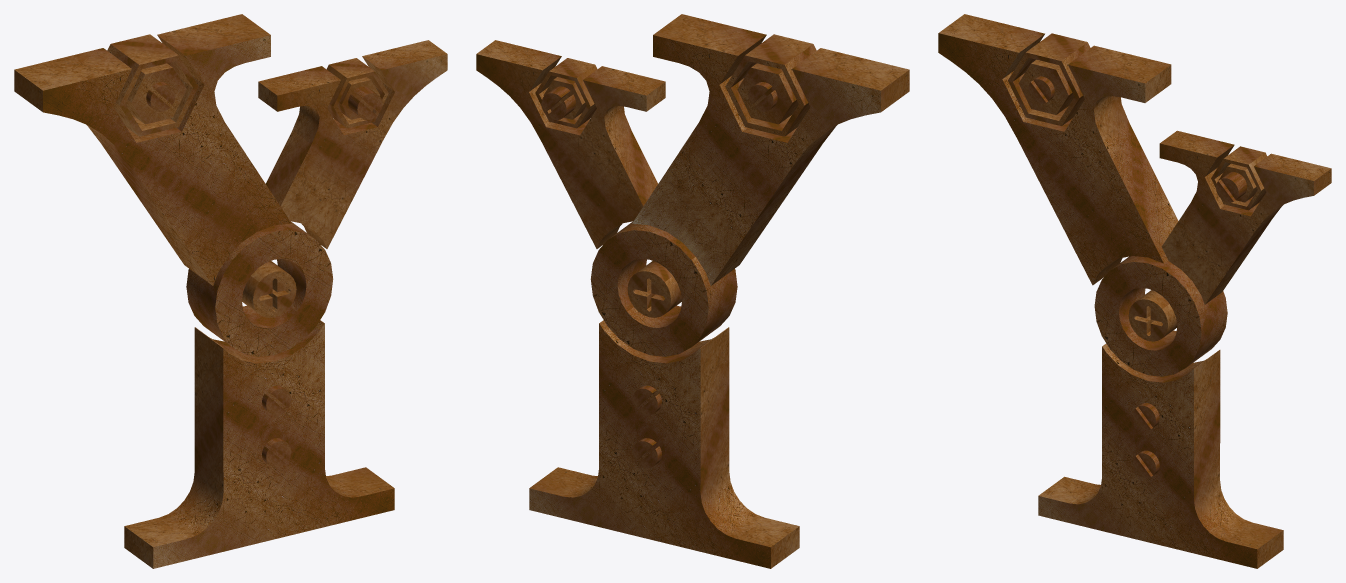
3 views of the same model, side by side, from view 1: azimuth 30°, elevation 25°; view 2: azimuth 150°, elevation 25°; view 3: azimuth 330°, elevation 25° (orthographic). The views are drawn at different scales.
Visible parts, largest first — view 1: Y, NGon_007, NGon_012, Screw_483, Screw_807, Screw_806, Screw_811, Screw_812; view 2: Y, NGon_007, NGon_012, Screw_483, Screw_807, Screw_806, Screw_811, Screw_812; view 3: Y, NGon_007, NGon_012, Screw_483, Screw_807, Screw_811, Screw_806, Screw_812.
Boxes of the visible parts, x1,y1,x2,y2 form: Y: (14, 14, 447, 568); NGon_007: (107, 34, 198, 136); NGon_012: (326, 58, 388, 128); Screw_483: (242, 261, 296, 317); Screw_807: (348, 86, 382, 120); Screw_806: (146, 82, 175, 111); Screw_811: (262, 385, 291, 415); Screw_812: (262, 438, 291, 467); Y: (476, 14, 909, 568); NGon_007: (725, 34, 816, 136); NGon_012: (535, 58, 597, 128); Screw_483: (627, 261, 681, 317); Screw_807: (541, 86, 575, 120); Screw_806: (748, 82, 777, 111); Screw_811: (632, 385, 661, 415); Screw_812: (632, 438, 661, 467); Y: (938, 14, 1331, 568); NGon_007: (1008, 33, 1090, 125); NGon_012: (1211, 146, 1267, 210); Screw_483: (1128, 290, 1177, 341); Screw_807: (1216, 172, 1247, 202); Screw_811: (1133, 403, 1159, 430); Screw_806: (1028, 76, 1054, 103); Screw_812: (1133, 450, 1159, 477).
Bounding box in the file's own units: 82.04 × 97.12 × 12.89.
1 material, 1 textured.
